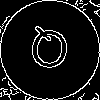Q: (25, 25, 72, 80)
